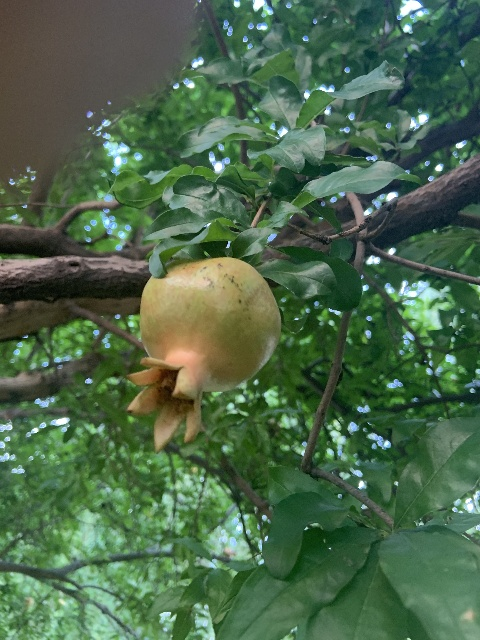mid-growth: (125, 256, 281, 450)
